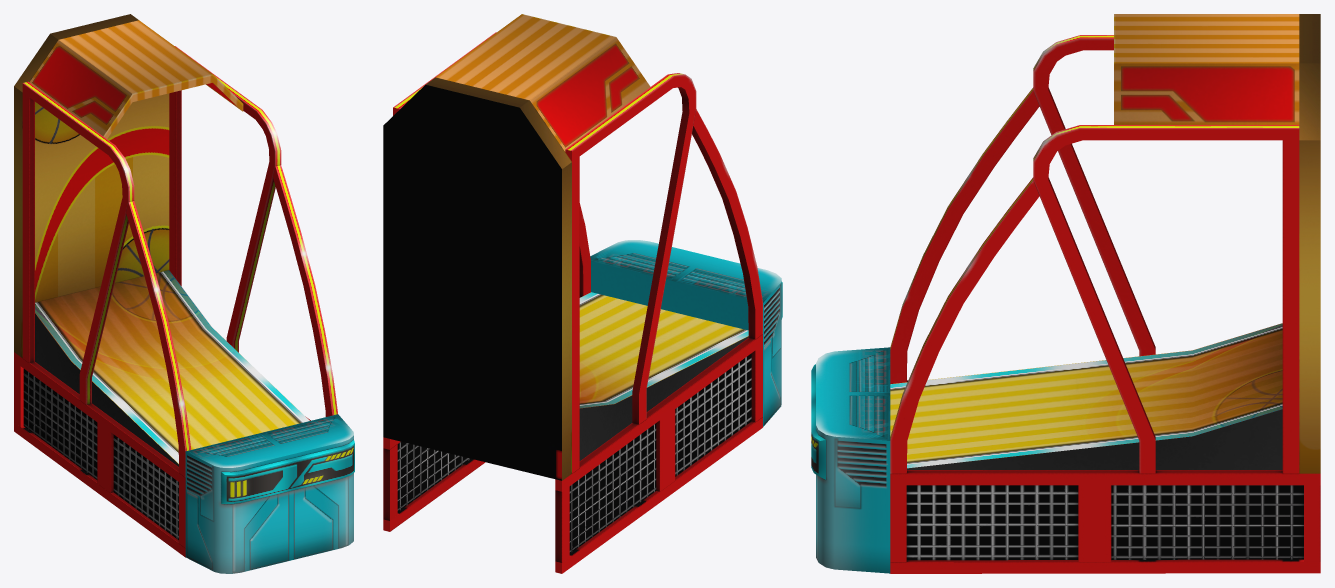
File: ArcadeMachine.FBX
The picture shows the model from 3 angles, left to right: view 1: azimuth 30°, elevation 25°; view 2: azimuth 150°, elevation 25°; view 3: azimuth 270°, elevation 25°; orthographic projection. The views are drawn at different scales.
Parts seen in each view (by area): view 1: Machine; view 2: Machine; view 3: Machine.
Part boxes in pixels (x1=…): Machine: x1=14, y1=14, x2=354, y2=573; Machine: x1=383, y1=14, x2=782, y2=573; Machine: x1=811, y1=14, x2=1320, y2=573.
Size of the model in its own units: 1.2 by 2.93 by 2.77.
